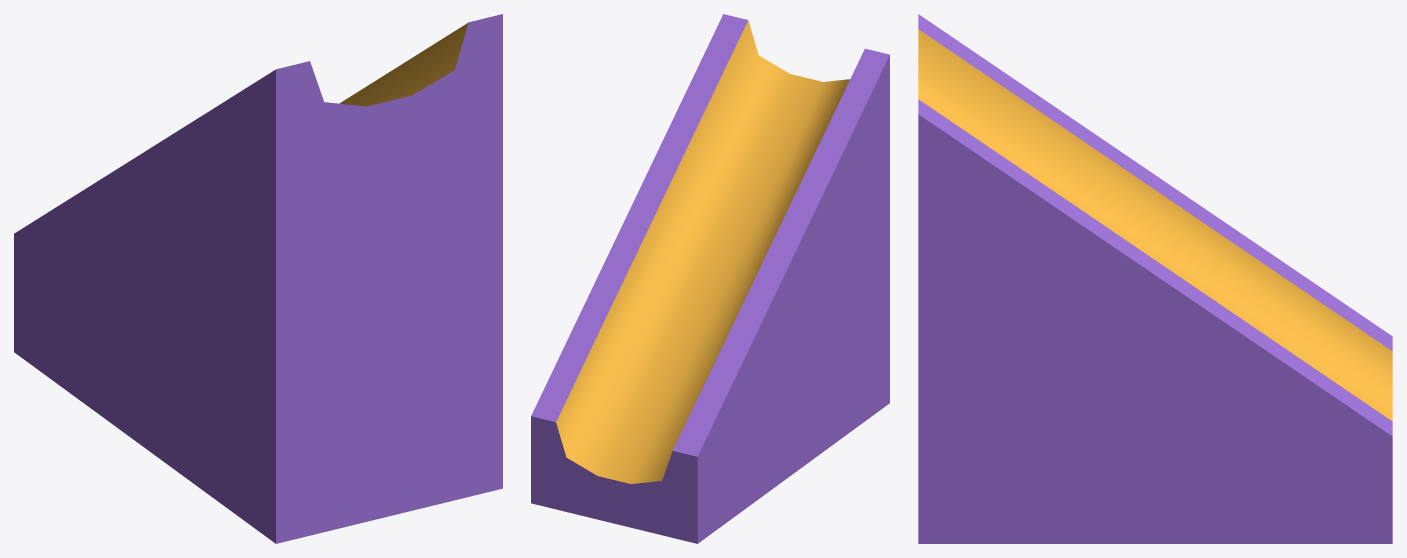
The model's file is kenney-marble-slant-solid-long-d.glb.
3 views of the same model, side by side, from view 1: azimuth 30°, elevation 25°; view 2: azimuth 150°, elevation 25°; view 3: azimuth 270°, elevation 25° (orthographic). The views are drawn at different scales.
Visible parts, largest first — view 1: slant-solid-long-d; view 2: slant-solid-long-d; view 3: slant-solid-long-d.
Part boxes in pixels (x1,y1,x2,y2): slant-solid-long-d: [14, 14, 502, 543]; slant-solid-long-d: [531, 14, 889, 543]; slant-solid-long-d: [918, 14, 1392, 543].
Bounding box in the file's own units: 1 × 2 × 2.
Materials: 1 (1 with a texture image).
